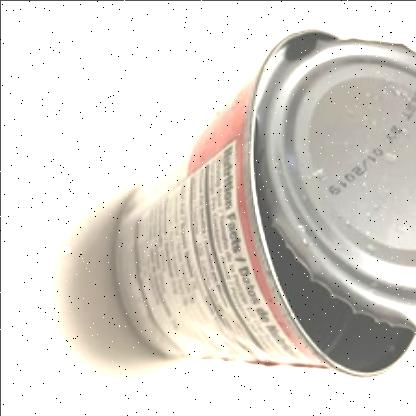Can: (108, 26, 416, 380)
